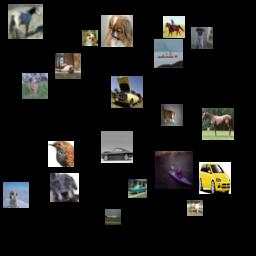airplane: (105, 209, 121, 225)
automobile: (199, 162, 231, 194), (111, 76, 143, 108), (101, 131, 133, 163), (128, 179, 147, 198)
bird: (48, 141, 74, 167)
cat: (55, 53, 81, 79), (22, 73, 48, 99), (161, 104, 183, 126)
dog: (101, 15, 133, 47), (50, 173, 79, 202), (3, 182, 29, 208), (191, 27, 213, 49), (82, 30, 98, 46)
ship: (155, 151, 193, 189), (154, 39, 183, 68)
